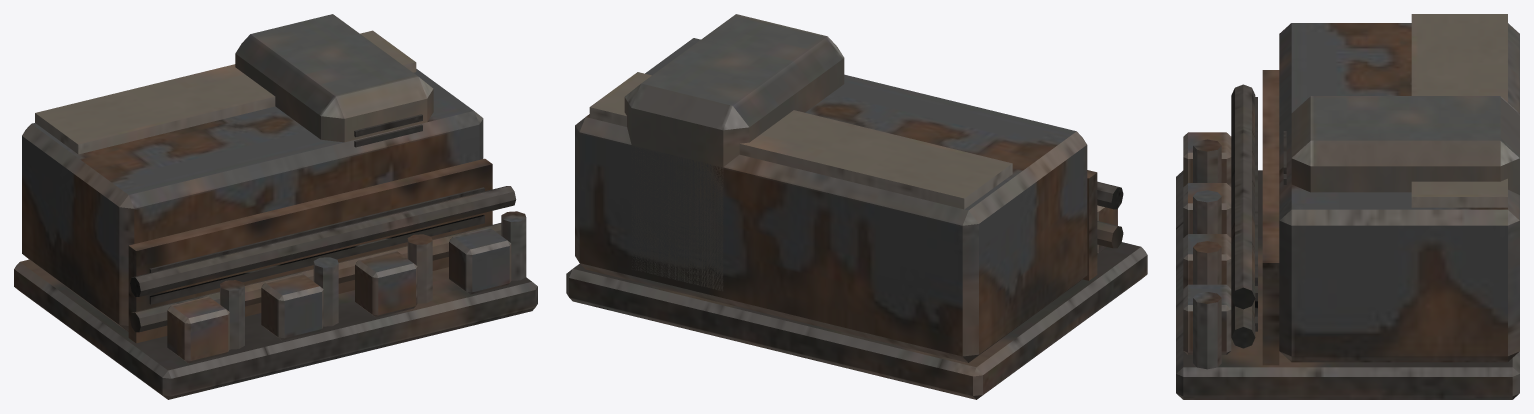
Rendered from cargo-bay-wall-s.glb.
The picture shows the model from 3 angles, left to right: view 1: azimuth 30°, elevation 25°; view 2: azimuth 150°, elevation 25°; view 3: azimuth 270°, elevation 25°; orthographic projection. The views are drawn at different scales.
Parts seen in each view (by area): view 1: body; view 2: body; view 3: body.
Part boxes in pixels (<box>): body: <box>14,14,537,399</box>; body: <box>566,14,1147,399</box>; body: <box>1176,14,1519,399</box>.
Bounding box in the file's own units: 2 × 1.05 × 1.43.
Materials: 1 (1 with a texture image).
